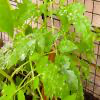Tomato mold leaf: (64, 4, 99, 69), (7, 29, 45, 70), (35, 55, 69, 98), (8, 0, 40, 26), (57, 39, 81, 53), (51, 31, 60, 41)
